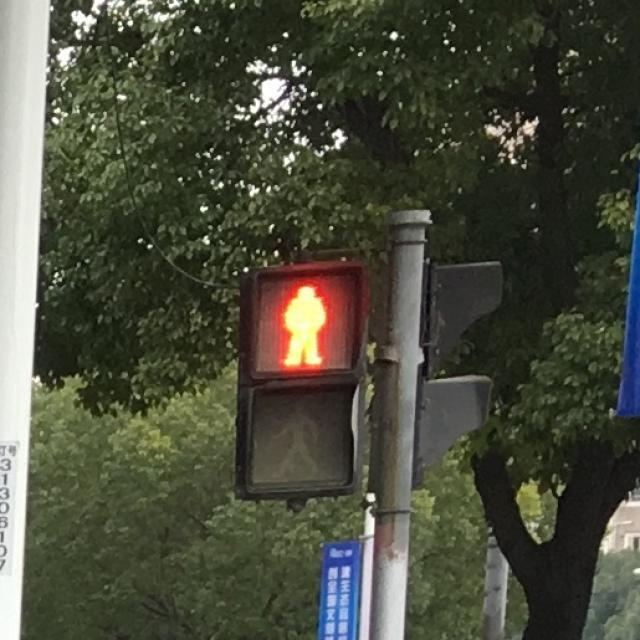red-crossing: (251, 270, 355, 376)
